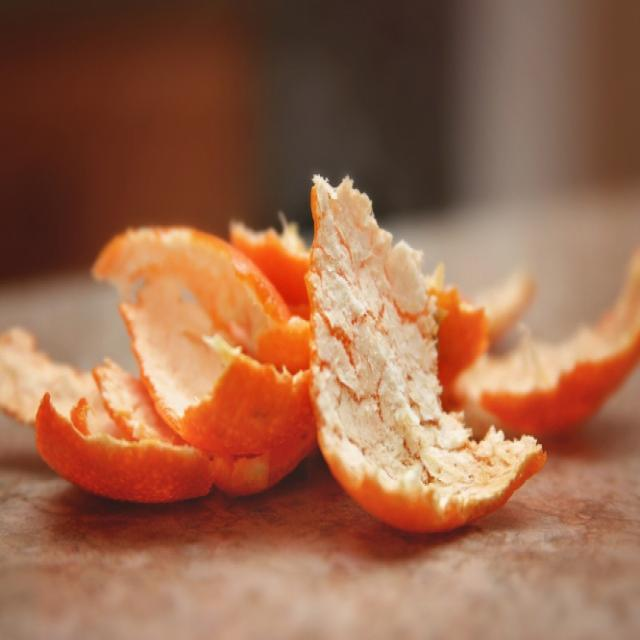food_waste: (90, 207, 565, 491)
